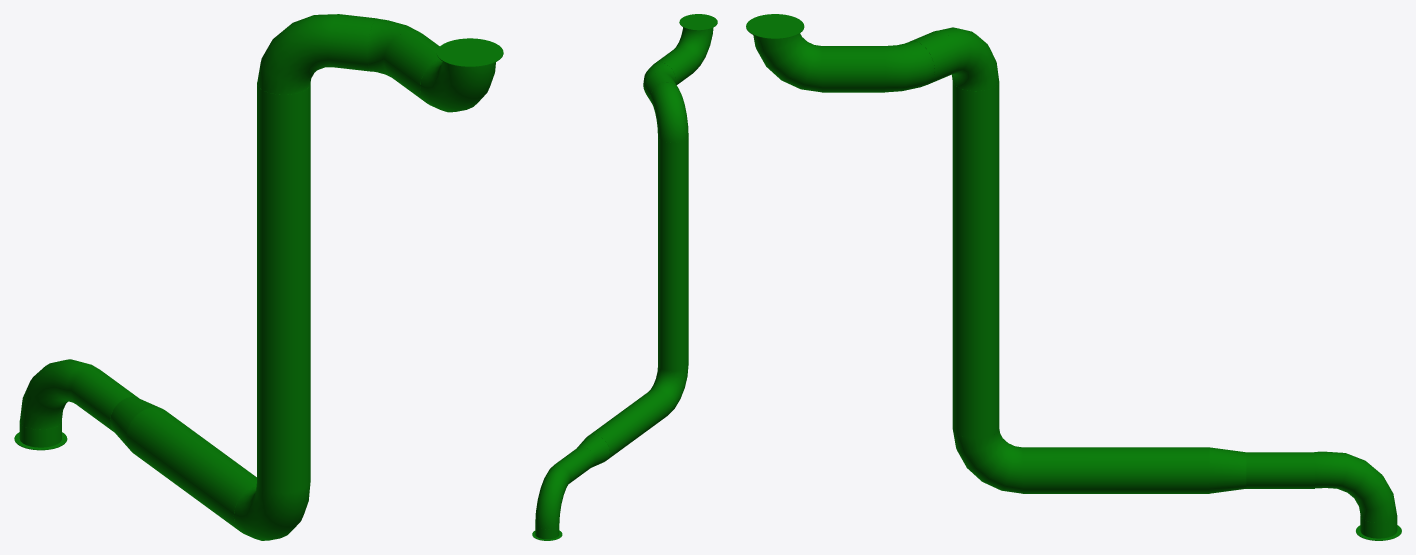
Rendered from Image-1710907701371-2280781762368_77-GA53-SUPPLY-DUCT_CER.fbx.
The picture shows the model from 3 angles, left to right: view 1: azimuth 30°, elevation 25°; view 2: azimuth 150°, elevation 25°; view 3: azimuth 270°, elevation 25°; orthographic projection. The views are drawn at different scales.
Parts seen in each view (by area): view 1: CYLINDER 4 of EQUIPMENT /77-GA53-SUPPLY-DUCT_CER, CYLINDER 5 of EQUIPMENT /77-GA53-SUPPLY-DUCT_CER, CTORUS 3 of EQUIPMENT /77-GA53-SUPPLY-DUCT_CER, CTORUS 4 of EQUIPMENT /77-GA53-SUPPLY-DUCT_CER, CTORUS 1 of EQUIPMENT /77-GA53-SUPPLY-DUCT_CER, CTORUS 6 of EQUIPMENT /77-GA53-SUPPLY-DUCT_CER, CYLINDER 2 of EQUIPMENT /77-GA53-SUPPLY-DUCT_CER, CYLINDER 3 of EQUIPMENT /77-GA53-SUPPLY-DUCT_CER, CYLINDER 6 of EQUIPMENT /77-GA53-SUPPLY-DUCT_CER, CYLINDER 1 of EQUIPMENT /77-GA53-SUPPLY-DUCT_CER, CTORUS 2 of EQUIPMENT /77-GA53-SUPPLY-DUCT_CER, CONE 1 of EQUIPMENT /77-GA53-SUPPLY-DUCT_CER (+1 smaller); view 2: CYLINDER 4 of EQUIPMENT /77-GA53-SUPPLY-DUCT_CER, CYLINDER 5 of EQUIPMENT /77-GA53-SUPPLY-DUCT_CER, CTORUS 3 of EQUIPMENT /77-GA53-SUPPLY-DUCT_CER, CTORUS 6 of EQUIPMENT /77-GA53-SUPPLY-DUCT_CER, CTORUS 4 of EQUIPMENT /77-GA53-SUPPLY-DUCT_CER, CTORUS 1 of EQUIPMENT /77-GA53-SUPPLY-DUCT_CER, CYLINDER 2 of EQUIPMENT /77-GA53-SUPPLY-DUCT_CER, CYLINDER 6 of EQUIPMENT /77-GA53-SUPPLY-DUCT_CER, CONE 1 of EQUIPMENT /77-GA53-SUPPLY-DUCT_CER, CYLINDER 1 of EQUIPMENT /77-GA53-SUPPLY-DUCT_CER, CYLINDER 3 of EQUIPMENT /77-GA53-SUPPLY-DUCT_CER, CTORUS 2 of EQUIPMENT /77-GA53-SUPPLY-DUCT_CER (+1 smaller); view 3: CYLINDER 4 of EQUIPMENT /77-GA53-SUPPLY-DUCT_CER, CYLINDER 5 of EQUIPMENT /77-GA53-SUPPLY-DUCT_CER, CTORUS 6 of EQUIPMENT /77-GA53-SUPPLY-DUCT_CER, CYLINDER 2 of EQUIPMENT /77-GA53-SUPPLY-DUCT_CER, CTORUS 4 of EQUIPMENT /77-GA53-SUPPLY-DUCT_CER, CTORUS 1 of EQUIPMENT /77-GA53-SUPPLY-DUCT_CER, CYLINDER 6 of EQUIPMENT /77-GA53-SUPPLY-DUCT_CER, CTORUS 3 of EQUIPMENT /77-GA53-SUPPLY-DUCT_CER, CTORUS 2 of EQUIPMENT /77-GA53-SUPPLY-DUCT_CER, CONE 1 of EQUIPMENT /77-GA53-SUPPLY-DUCT_CER, CYLINDER 3 of EQUIPMENT /77-GA53-SUPPLY-DUCT_CER, CYLINDER 1 of EQUIPMENT /77-GA53-SUPPLY-DUCT_CER.
Part boxes in pixels (left/top/right/bottom): CYLINDER 4 of EQUIPMENT /77-GA53-SUPPLY-DUCT_CER: left=257, top=82, right=310, bottom=492; CYLINDER 5 of EQUIPMENT /77-GA53-SUPPLY-DUCT_CER: left=126, top=407, right=256, bottom=532; CTORUS 3 of EQUIPMENT /77-GA53-SUPPLY-DUCT_CER: left=257, top=14, right=337, bottom=94; CTORUS 4 of EQUIPMENT /77-GA53-SUPPLY-DUCT_CER: left=233, top=483, right=310, bottom=540; CTORUS 1 of EQUIPMENT /77-GA53-SUPPLY-DUCT_CER: left=420, top=59, right=495, bottom=112; CTORUS 6 of EQUIPMENT /77-GA53-SUPPLY-DUCT_CER: left=20, top=359, right=86, bottom=429; CYLINDER 2 of EQUIPMENT /77-GA53-SUPPLY-DUCT_CER: left=383, top=30, right=439, bottom=103; CYLINDER 3 of EQUIPMENT /77-GA53-SUPPLY-DUCT_CER: left=328, top=14, right=376, bottom=71; CYLINDER 6 of EQUIPMENT /77-GA53-SUPPLY-DUCT_CER: left=71, top=368, right=138, bottom=432; CYLINDER 1 of EQUIPMENT /77-GA53-SUPPLY-DUCT_CER: left=436, top=38, right=503, bottom=67; CTORUS 2 of EQUIPMENT /77-GA53-SUPPLY-DUCT_CER: left=367, top=18, right=418, bottom=76; CONE 1 of EQUIPMENT /77-GA53-SUPPLY-DUCT_CER: left=110, top=397, right=159, bottom=450; CYLINDER 4 of EQUIPMENT /77-GA53-SUPPLY-DUCT_CER: left=658, top=137, right=688, bottom=371; CYLINDER 5 of EQUIPMENT /77-GA53-SUPPLY-DUCT_CER: left=587, top=389, right=671, bottom=461; CTORUS 3 of EQUIPMENT /77-GA53-SUPPLY-DUCT_CER: left=650, top=82, right=688, bottom=142; CTORUS 6 of EQUIPMENT /77-GA53-SUPPLY-DUCT_CER: left=535, top=465, right=570, bottom=529; CTORUS 4 of EQUIPMENT /77-GA53-SUPPLY-DUCT_CER: left=649, top=366, right=688, bottom=413; CTORUS 1 of EQUIPMENT /77-GA53-SUPPLY-DUCT_CER: left=674, top=27, right=713, bottom=71; CYLINDER 2 of EQUIPMENT /77-GA53-SUPPLY-DUCT_CER: left=653, top=47, right=696, bottom=84; CYLINDER 6 of EQUIPMENT /77-GA53-SUPPLY-DUCT_CER: left=556, top=446, right=594, bottom=482; CONE 1 of EQUIPMENT /77-GA53-SUPPLY-DUCT_CER: left=577, top=434, right=609, bottom=467; CYLINDER 1 of EQUIPMENT /77-GA53-SUPPLY-DUCT_CER: left=679, top=14, right=717, bottom=30; CYLINDER 3 of EQUIPMENT /77-GA53-SUPPLY-DUCT_CER: left=644, top=72, right=676, bottom=102; CTORUS 2 of EQUIPMENT /77-GA53-SUPPLY-DUCT_CER: left=643, top=62, right=675, bottom=91; CYLINDER 4 of EQUIPMENT /77-GA53-SUPPLY-DUCT_CER: left=952, top=81, right=999, bottom=437; CYLINDER 5 of EQUIPMENT /77-GA53-SUPPLY-DUCT_CER: left=1022, top=447, right=1209, bottom=493; CTORUS 6 of EQUIPMENT /77-GA53-SUPPLY-DUCT_CER: left=1324, top=451, right=1396, bottom=522; CYLINDER 2 of EQUIPMENT /77-GA53-SUPPLY-DUCT_CER: left=822, top=46, right=884, bottom=92; CTORUS 4 of EQUIPMENT /77-GA53-SUPPLY-DUCT_CER: left=953, top=429, right=1022, bottom=493; CTORUS 1 of EQUIPMENT /77-GA53-SUPPLY-DUCT_CER: left=753, top=33, right=821, bottom=92; CYLINDER 6 of EQUIPMENT /77-GA53-SUPPLY-DUCT_CER: left=1246, top=452, right=1314, bottom=488; CTORUS 3 of EQUIPMENT /77-GA53-SUPPLY-DUCT_CER: left=939, top=27, right=998, bottom=90; CTORUS 2 of EQUIPMENT /77-GA53-SUPPLY-DUCT_CER: left=885, top=41, right=934, bottom=92; CONE 1 of EQUIPMENT /77-GA53-SUPPLY-DUCT_CER: left=1209, top=447, right=1246, bottom=493; CYLINDER 3 of EQUIPMENT /77-GA53-SUPPLY-DUCT_CER: left=909, top=30, right=959, bottom=84; CYLINDER 1 of EQUIPMENT /77-GA53-SUPPLY-DUCT_CER: left=746, top=14, right=804, bottom=39.
Bounding box in the file's own units: 1.16 × 5.62 × 5.1.
